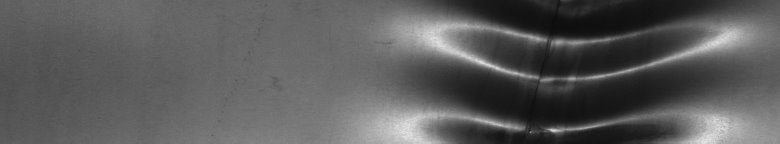ke: (414, 4, 728, 136)
